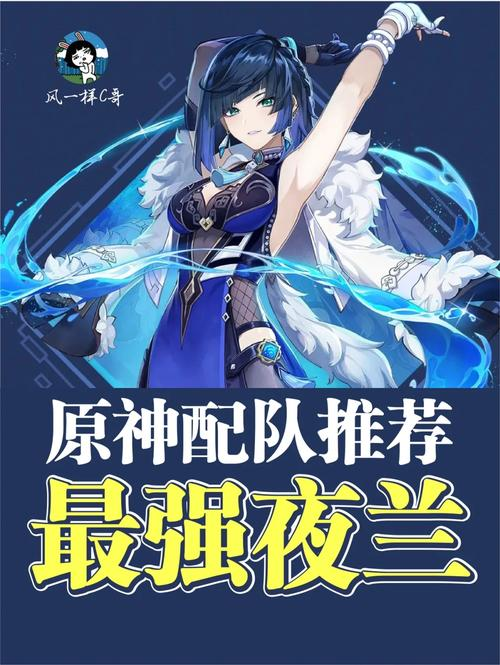夜兰: (138, 6, 455, 388)
